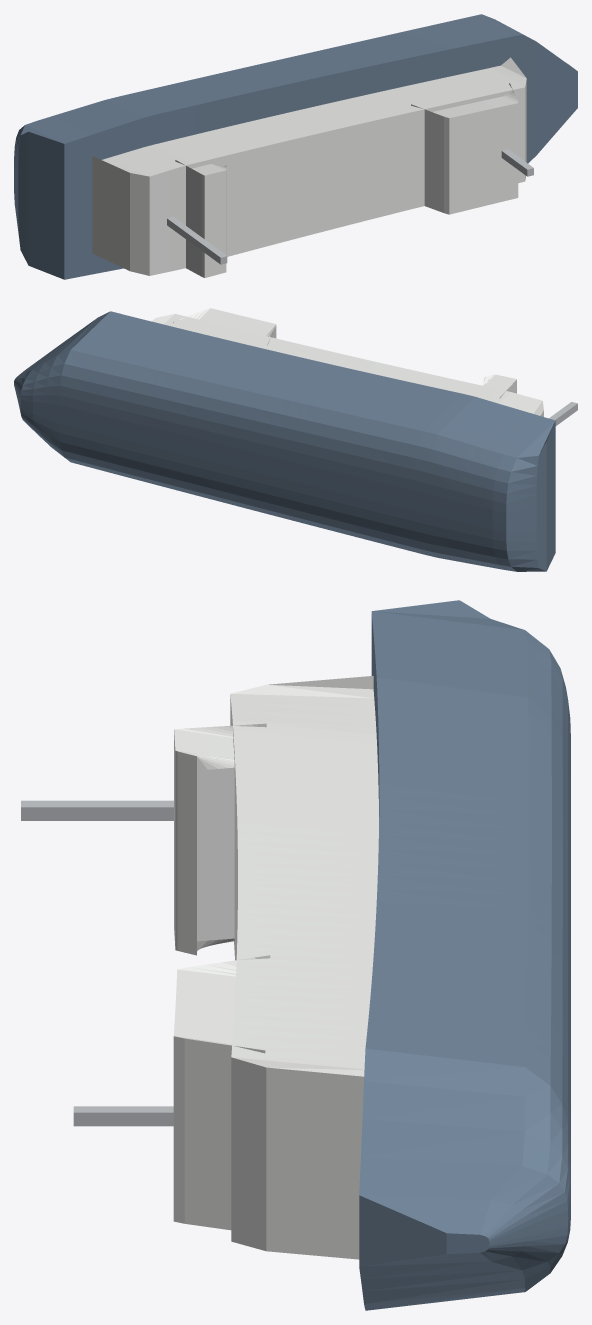
The model's file is loft-ferry-highside.glb.
3 views of the same model, one above another, from view 1: azimuth 30°, elevation 25°; view 2: azimuth 150°, elevation 25°; view 3: azimuth 270°, elevation 25° (orthographic). The views are drawn at different scales.
Visible parts, largest first — view 1: ferry-loft-highside; view 2: ferry-loft-highside; view 3: ferry-loft-highside.
Part boxes in pixels (left/top/right/bottom): ferry-loft-highside: left=14, top=14, right=577, bottom=279; ferry-loft-highside: left=14, top=308, right=577, bottom=571; ferry-loft-highside: left=21, top=600, right=570, bottom=1310.
Bounding box in the file's own units: 1.93 × 0.5048 × 0.8752.
